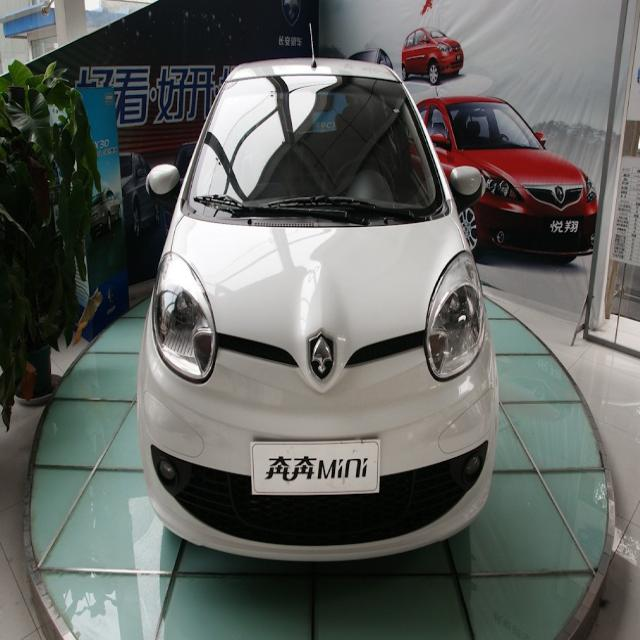front_bumper: (137, 361, 496, 562)
front_glass: (183, 70, 449, 225)
front_left_side_light: (424, 245, 486, 382)
front_left_side_mirror: (450, 162, 489, 208)
front_right_side_light: (152, 250, 217, 386)
front_right_side_mirror: (145, 162, 181, 205)
